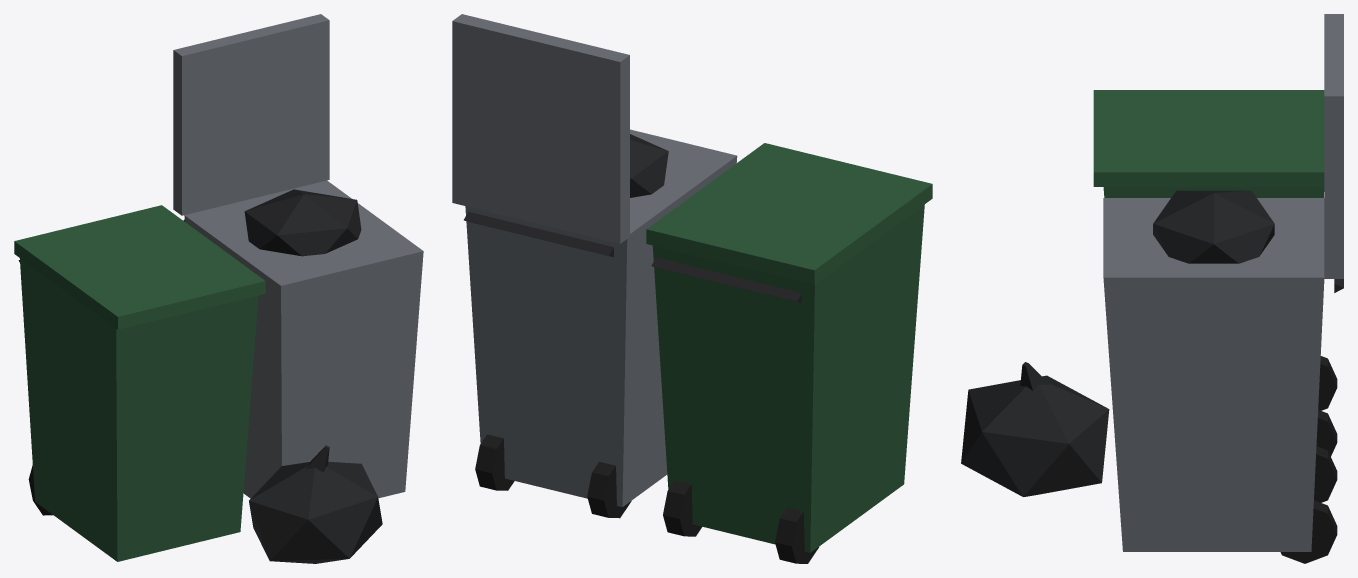
The model's file is wheelie_bins.glb.
3 renders of one model, left to right at view 1: azimuth 30°, elevation 25°; view 2: azimuth 150°, elevation 25°; view 3: azimuth 270°, elevation 25°, orthographic. The views are drawn at different scales.
Visible parts, largest first — view 1: wheelie_bins; view 2: wheelie_bins; view 3: wheelie_bins.
Part boxes in pixels (x1,y1,x2,y2): wheelie_bins: [14, 14, 423, 563]; wheelie_bins: [452, 14, 932, 563]; wheelie_bins: [961, 14, 1343, 563].
Size of the model in its own units: 1.27 by 1.62 by 1.18.
Materials: 1 (1 with a texture image).
